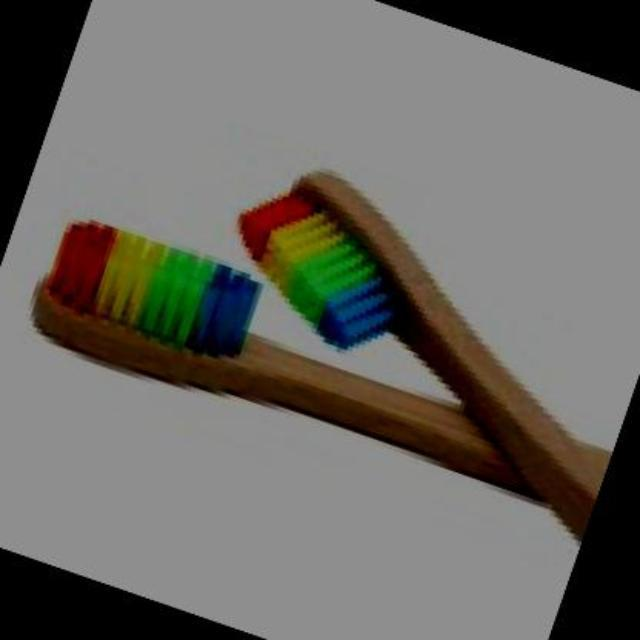toothbrush: (5, 202, 631, 578), (186, 90, 638, 492)
